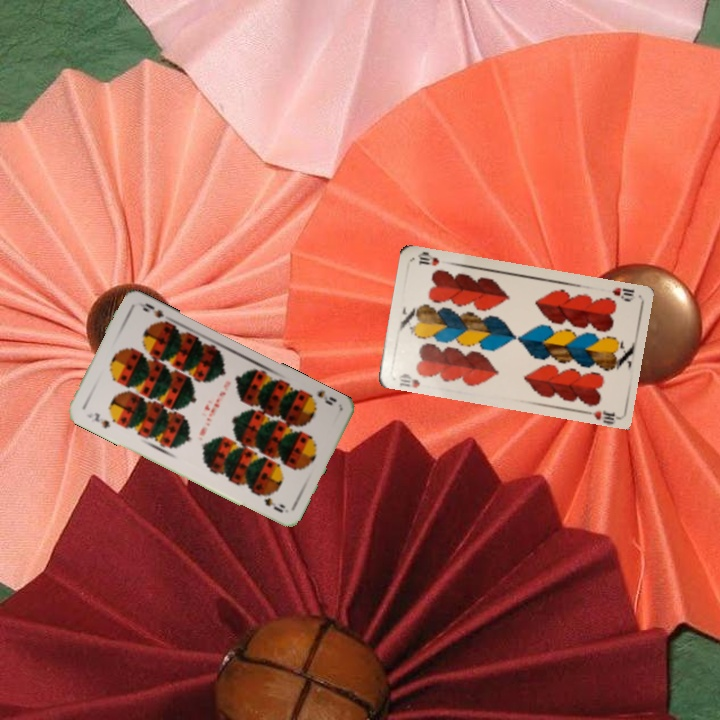H10: (608, 283, 638, 304), (395, 369, 422, 390)
S9: (302, 387, 339, 408), (82, 408, 112, 431)
